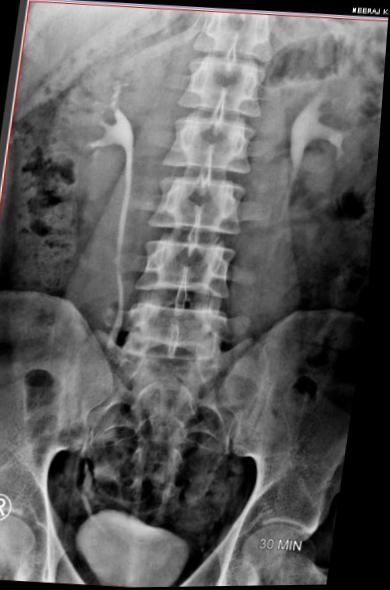bladder: (67, 499, 207, 588)
right kidney: (33, 40, 149, 205)
vertebrae: (172, 45, 269, 117)
